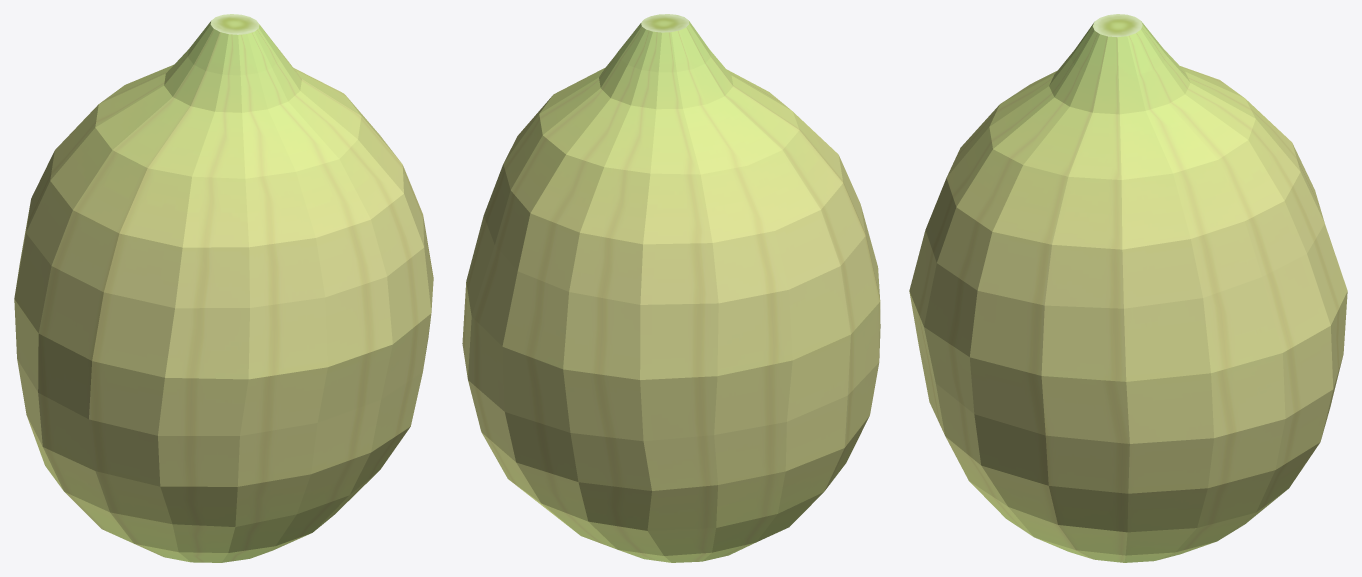
The model's file is OnionPeeled.fbx.
3 views of the same model, side by side, from view 1: azimuth 30°, elevation 25°; view 2: azimuth 150°, elevation 25°; view 3: azimuth 270°, elevation 25° (orthographic). The views are drawn at different scales.
Parts seen in each view (by area): view 1: OnionPeeled; view 2: OnionPeeled; view 3: OnionPeeled.
Part boxes in pixels (x1,y1,x2,y2): OnionPeeled: [14, 14, 433, 562]; OnionPeeled: [462, 14, 880, 562]; OnionPeeled: [909, 14, 1347, 562].
Size of the model in its own units: 13.45 by 18.14 by 13.74.
